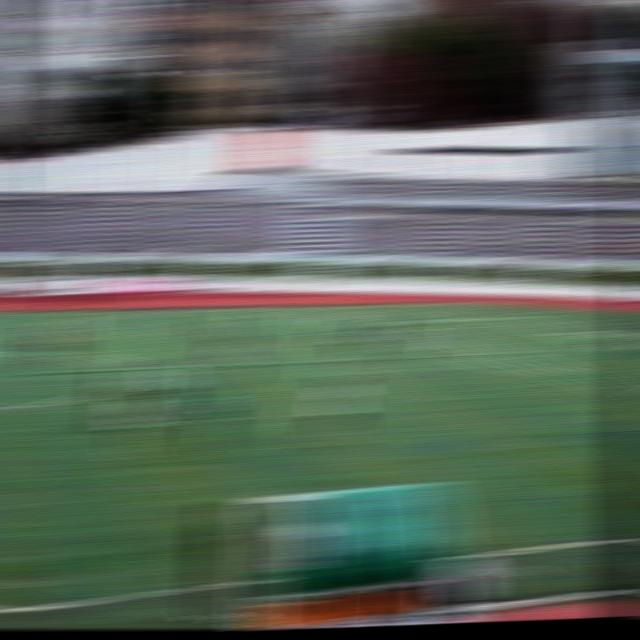bigarea_top_inner: (379, 316, 410, 327)
bigarea_top_outter: (523, 311, 561, 322)
bottom_arc_area_intersection: (545, 362, 582, 382)
corner: (464, 298, 493, 307)
smallarea_top_inner: (552, 326, 585, 339)
smallarea_top_outter: (603, 324, 631, 335)
top_arc_area_intersection: (442, 331, 475, 347)
